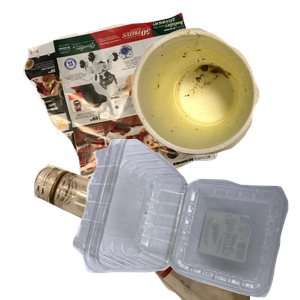glass: (31, 120, 271, 300)
paper: (20, 10, 231, 190)
plastic: (70, 139, 300, 300)
trash: (129, 25, 300, 173)
